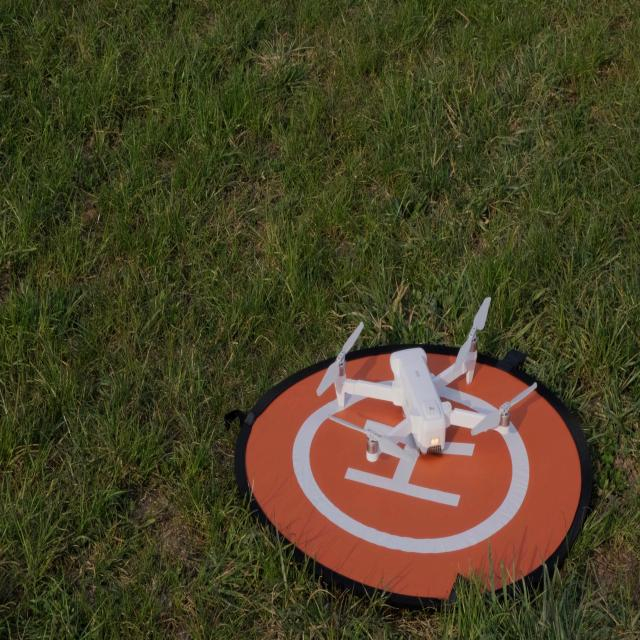drone: (316, 296, 537, 464)
